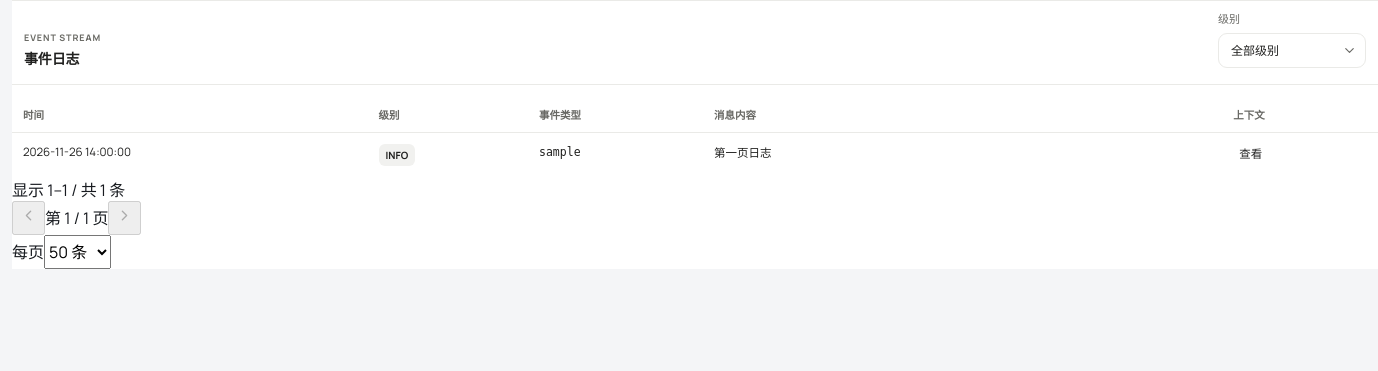
event context disclosure only references a mounted target
Later steps or results of the test are not shown.
Click the button "查看".
click(1251, 153)  # box [1233, 144, 1268, 162]
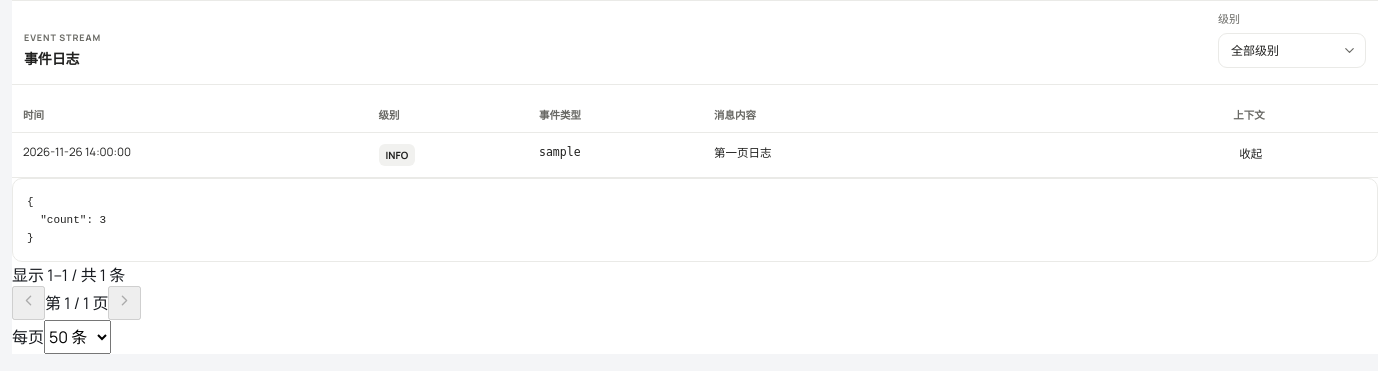
Expected: the text "{ \"count\": 3 }" is shown, [12, 178, 1377, 262]
